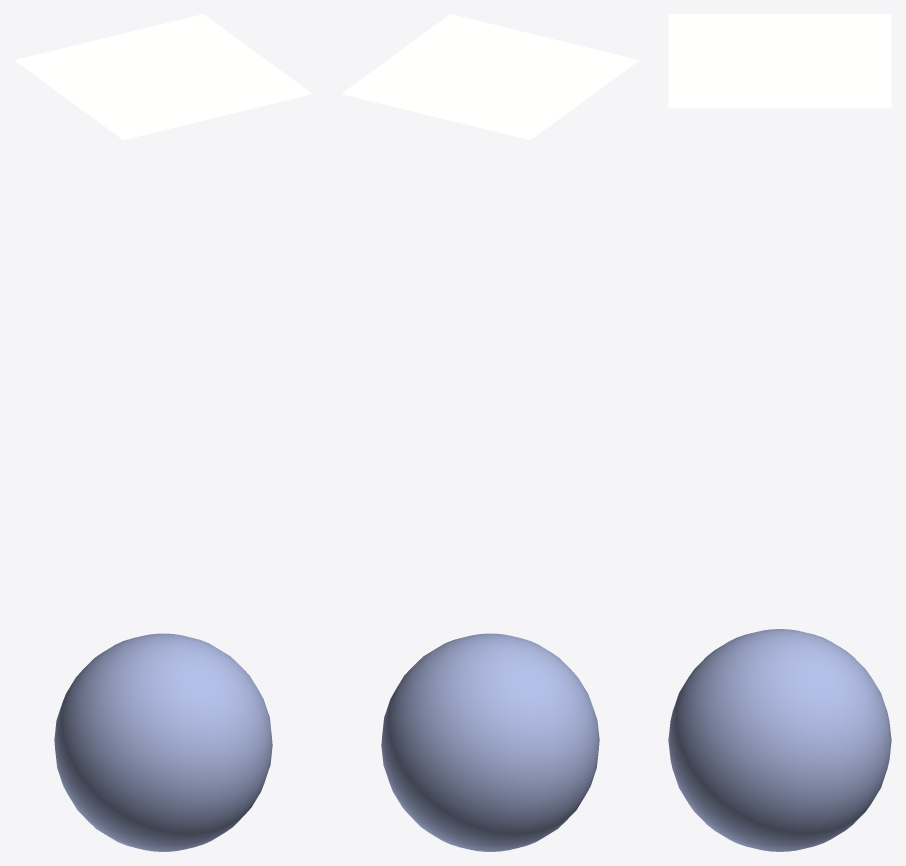
Rendered from lighting_test.glb.
3 views of the same model, side by side, from view 1: azimuth 30°, elevation 25°; view 2: azimuth 150°, elevation 25°; view 3: azimuth 270°, elevation 25° (orthographic). The views are drawn at different scales.
Parts seen in each view (by area): view 1: Sphere, Plane; view 2: Sphere, Plane; view 3: Sphere, Plane.
Boxes of the visible parts, x1,y1,x2,y2 form: Sphere: (54, 633, 272, 851); Plane: (14, 14, 312, 140); Sphere: (381, 633, 599, 851); Plane: (341, 14, 639, 140); Sphere: (668, 629, 891, 851); Plane: (668, 14, 891, 108).
Bounding box in the file's own units: 2 × 7.72 × 2.
